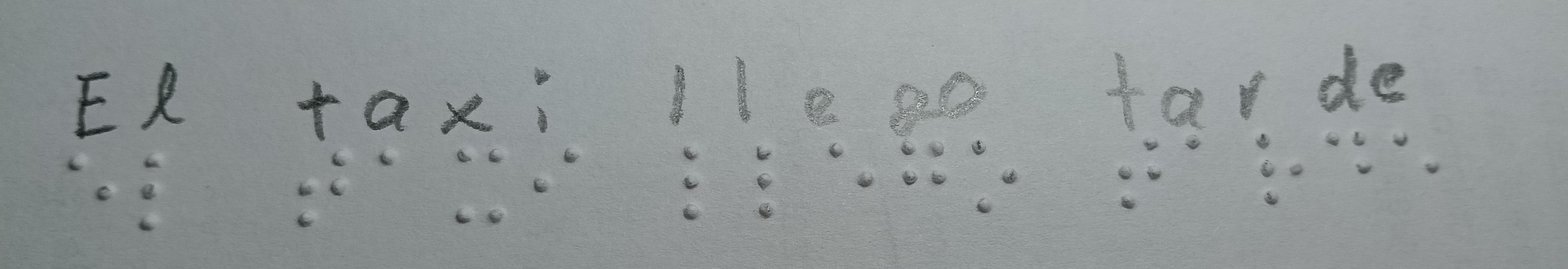a: (369, 140, 417, 190), (1180, 130, 1220, 171)
d: (1322, 125, 1380, 190)
e: (52, 138, 125, 230), (815, 132, 884, 209), (1387, 119, 1451, 186)
g: (892, 134, 951, 198)
i: (525, 134, 590, 207)
l: (730, 132, 794, 236), (651, 132, 713, 238), (131, 127, 175, 248)
o: (961, 132, 1026, 221)
r: (1243, 129, 1307, 219)
t: (275, 144, 355, 244), (1095, 130, 1168, 217)
x: (444, 134, 513, 236)
